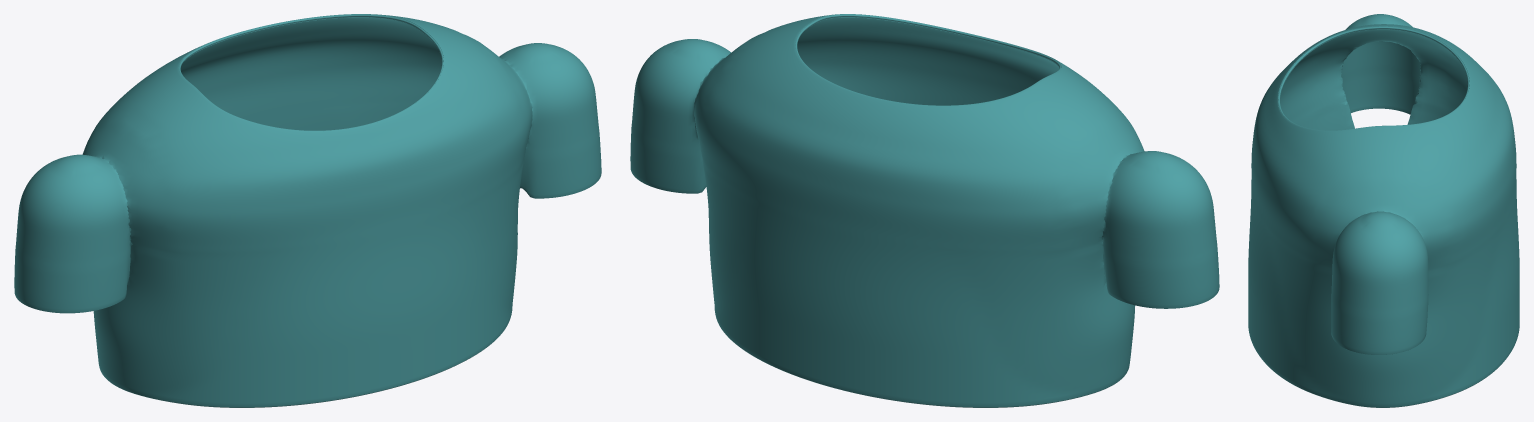
The model's file is Masculine-tshirt-top.glb.
3 views of the same model, side by side, from view 1: azimuth 30°, elevation 25°; view 2: azimuth 150°, elevation 25°; view 3: azimuth 270°, elevation 25° (orthographic). The views are drawn at different scales.
Parts seen in each view (by area): view 1: Clothing / continuous T-shirt181, Neckline / seated181 export; view 2: Clothing / continuous T-shirt181, Neckline / seated181 export; view 3: Clothing / continuous T-shirt181, Neckline / seated181 export.
Boxes of the visible parts, bbox=[...] form: Clothing / continuous T-shirt181: bbox=[14, 14, 601, 407]; Neckline / seated181 export: bbox=[179, 14, 443, 131]; Clothing / continuous T-shirt181: bbox=[630, 14, 1219, 407]; Neckline / seated181 export: bbox=[795, 14, 1060, 105]; Clothing / continuous T-shirt181: bbox=[1248, 14, 1519, 407]; Neckline / seated181 export: bbox=[1278, 26, 1469, 130].
Bounding box in the file's own units: 0.995 × 0.4645 × 0.461.
